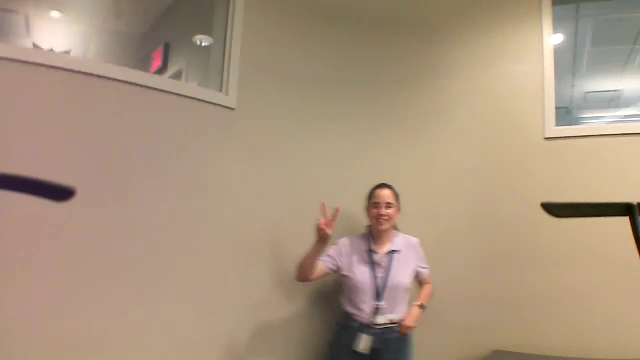peace: (313, 195, 344, 237)
